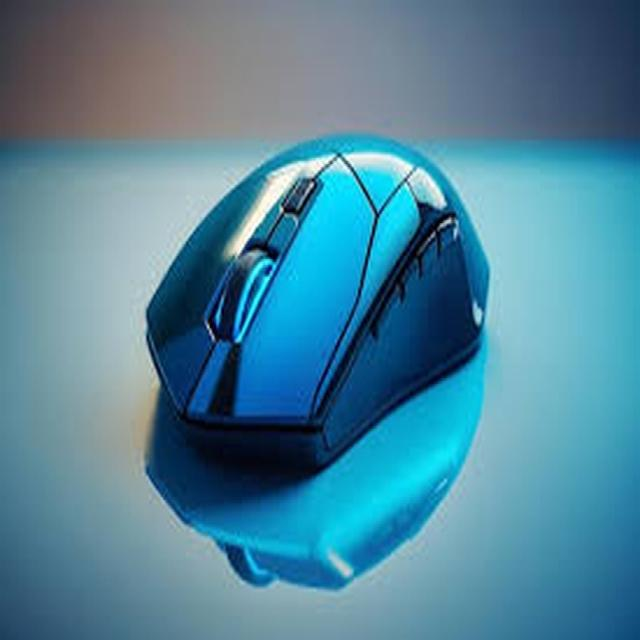mouse: (148, 98, 484, 542)
